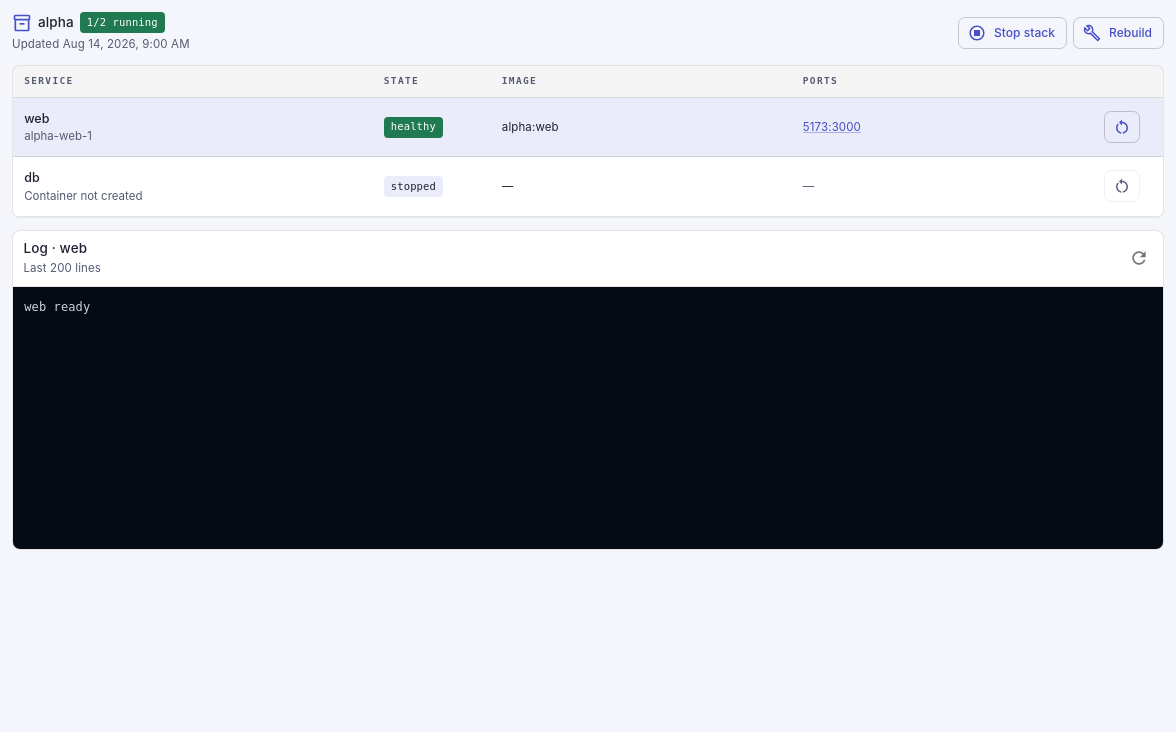
Test: DockerDetailPanel › shows all Compose services, clickable ports and service logs
Expected: the text "1/2 running" is shown, x1=87 y1=16 x2=158 y2=28
Expected: the text "alpha-web-1" is shown, x1=24 y1=129 x2=92 y2=143
Click the button "db Container not created" at (83, 196), box x1=21 y1=166 x2=376 y2=207
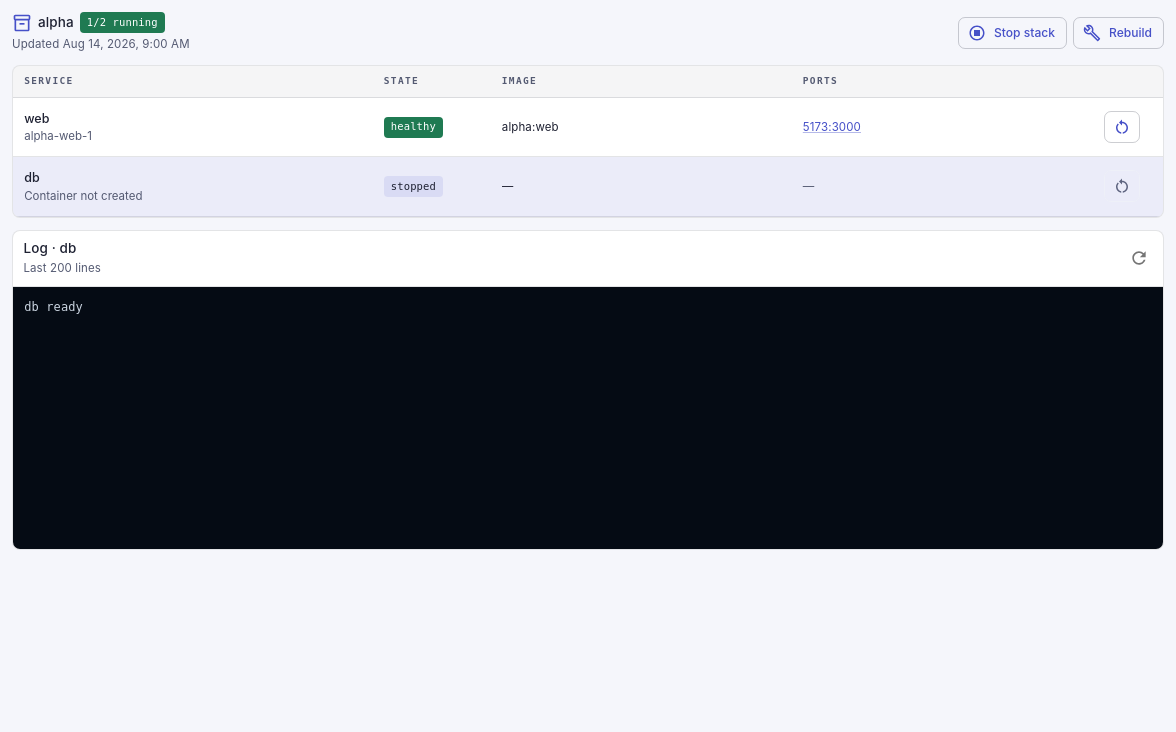
Now the text "db ready" is shown, box x1=13 y1=286 x2=1163 y2=548
